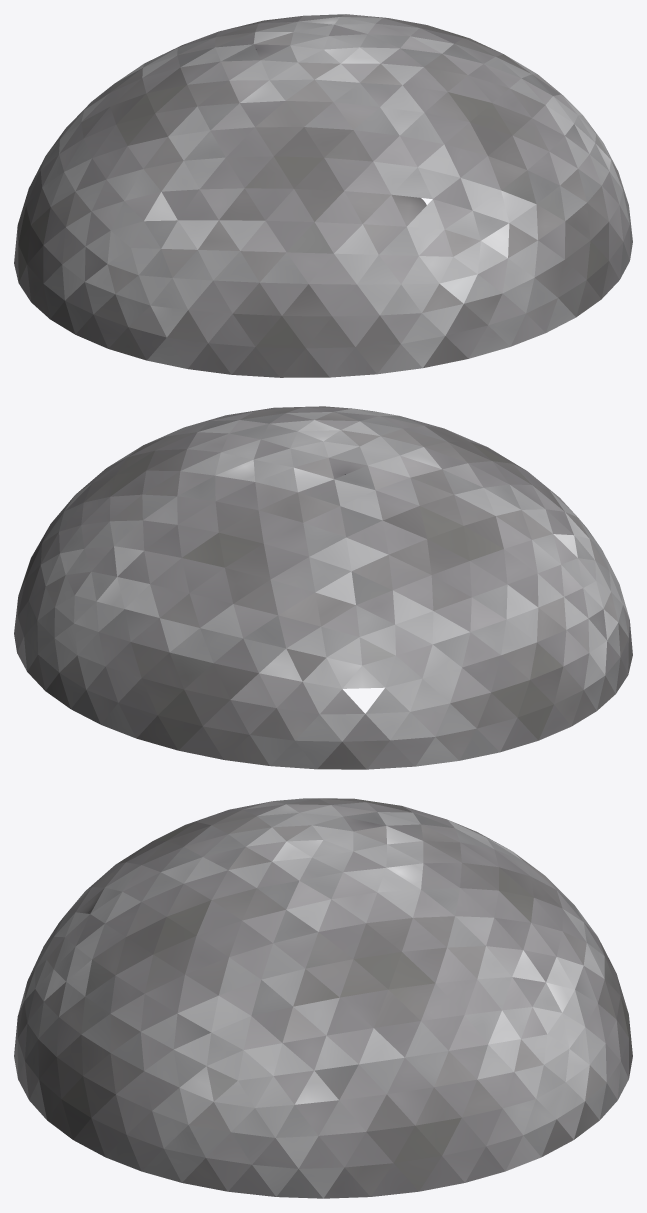
The model's file is cupula.obj.
3 renders of one model, top to bottom at view 1: azimuth 30°, elevation 25°; view 2: azimuth 150°, elevation 25°; view 3: azimuth 270°, elevation 25°, orthographic. The views are drawn at different scales.
Parts seen in each view (by area): view 1: Object_2_FrontCol; view 2: Object_2_FrontCol; view 3: Object_2_FrontCol.
Boxes of the visible parts, <box> form: Object_2_FrontCol: <box>14,14,632,377</box>; Object_2_FrontCol: <box>14,406,632,769</box>; Object_2_FrontCol: <box>14,798,632,1198</box>.
Bounding box in the file's own units: 3.28 × 1.17 × 3.02.
